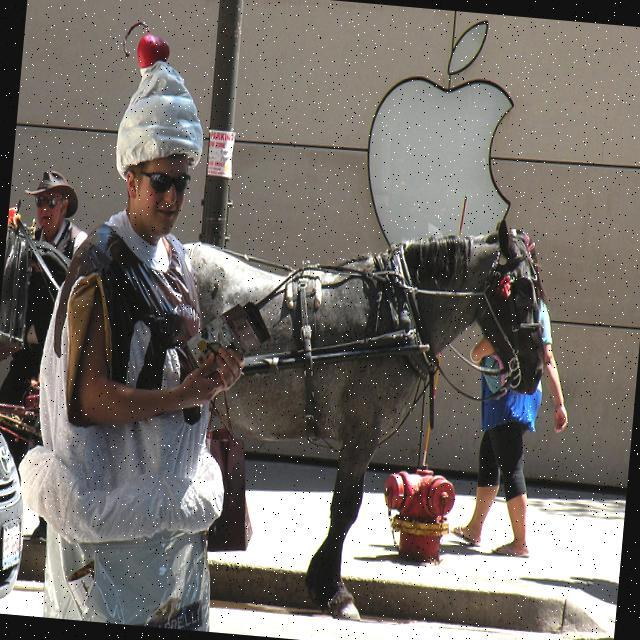fire_hydrant: (377, 459, 456, 562)
